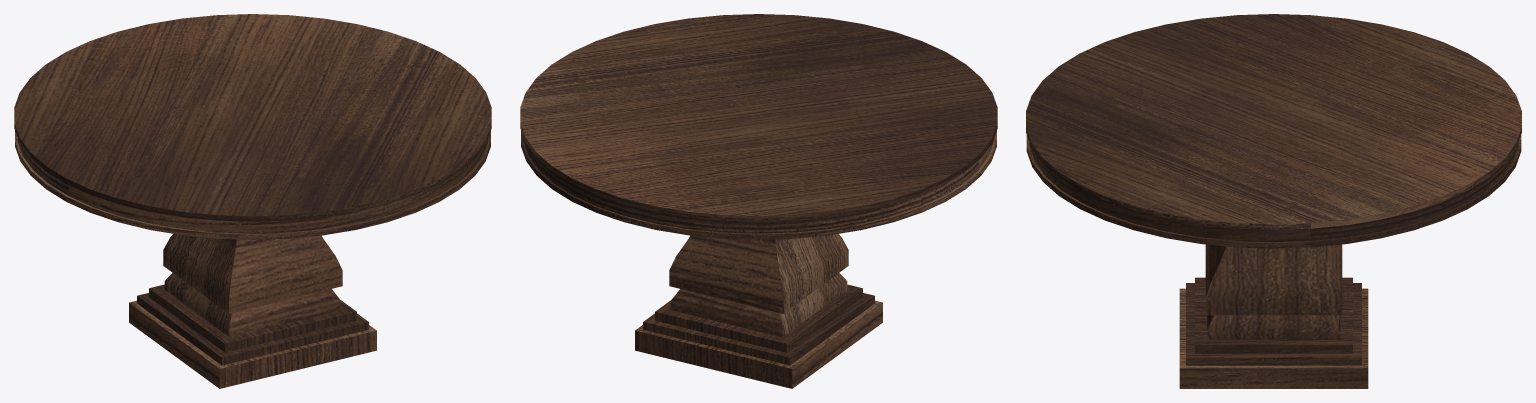
Rendered from table.fbx.
The picture shows the model from 3 angles, left to right: view 1: azimuth 30°, elevation 25°; view 2: azimuth 150°, elevation 25°; view 3: azimuth 270°, elevation 25°; orthographic projection. The views are drawn at different scales.
Visible parts, largest first — view 1: table; view 2: table; view 3: table.
Boxes of the visible parts, left/top/right/bottom form: table: left=14, top=14, right=491, bottom=388; table: left=520, top=14, right=997, bottom=388; table: left=1026, top=14, right=1521, bottom=388.
Size of the model in its own units: 11506 by 5871 by 11474.
